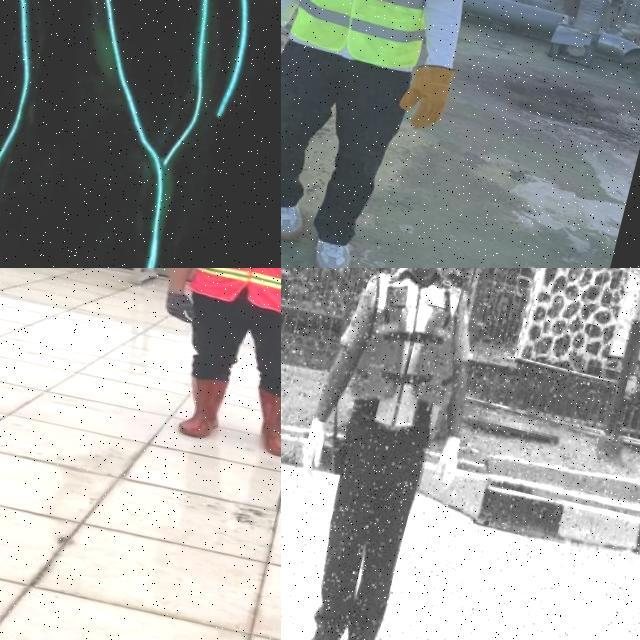boots: (170, 372, 237, 443), (240, 387, 281, 461), (307, 235, 355, 268), (281, 198, 310, 245), (293, 620, 342, 640)
vest: (336, 268, 484, 448), (286, 0, 454, 73), (171, 268, 281, 318)
